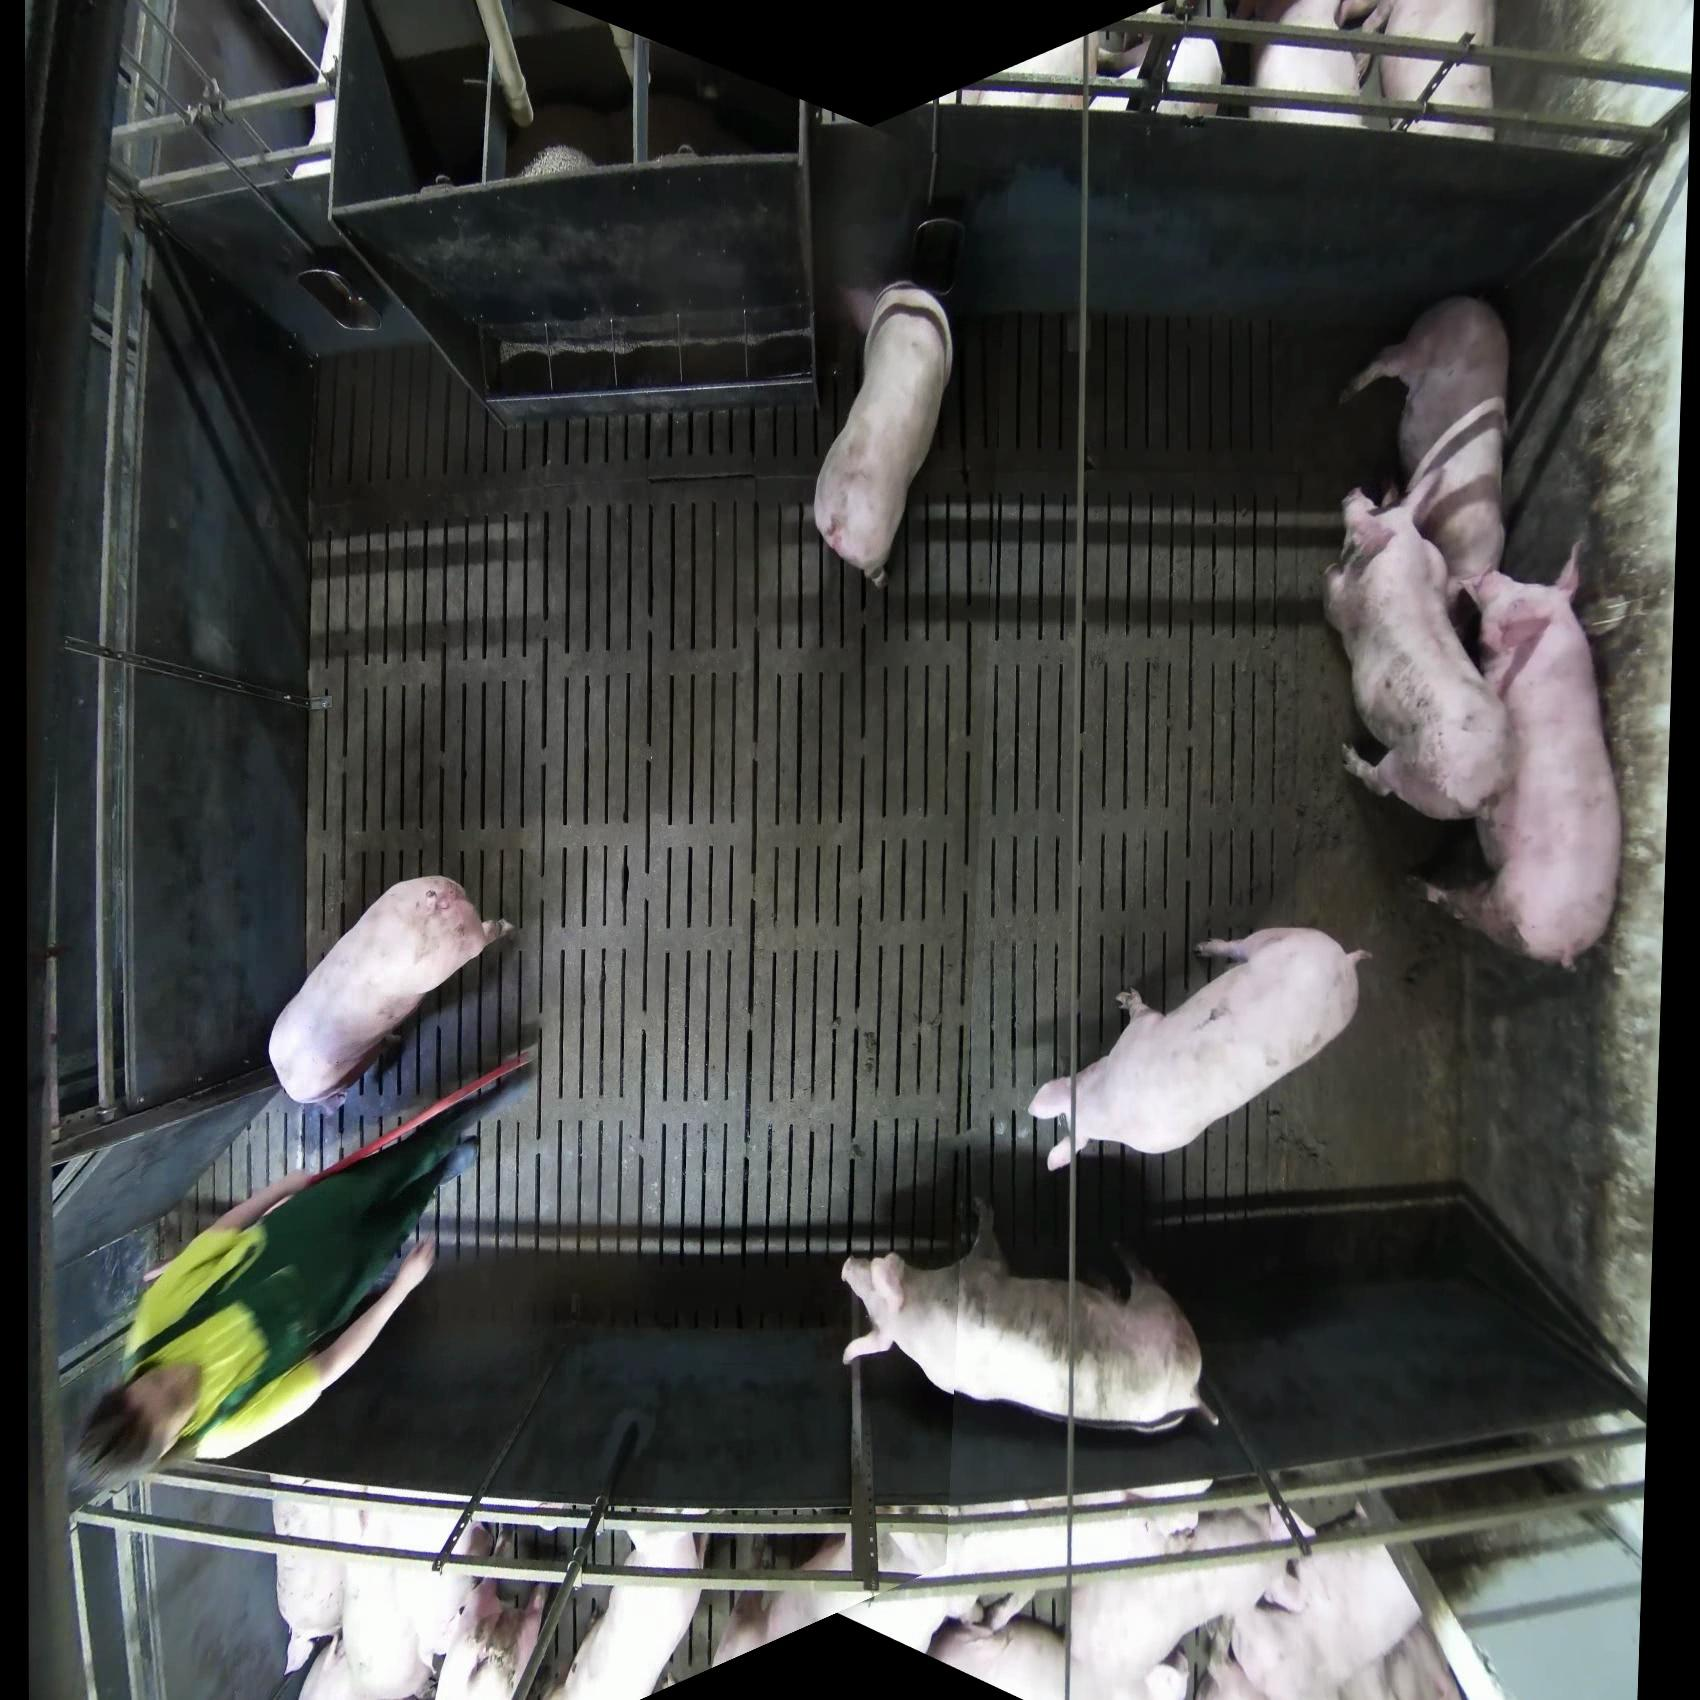pig: (270, 1484, 1466, 1700), (1406, 537, 1625, 972), (838, 1194, 1220, 1437), (1027, 925, 1374, 1174), (763, 1481, 1212, 1661), (1322, 475, 1517, 826), (266, 873, 518, 1109), (1338, 293, 1512, 608), (1065, 1497, 1319, 1700), (1209, 1502, 1465, 1700), (271, 1493, 497, 1700), (812, 279, 954, 590), (552, 1524, 710, 1699), (1348, 1, 1499, 142), (1233, 1, 1382, 129)
worker: (65, 1039, 540, 1514)
